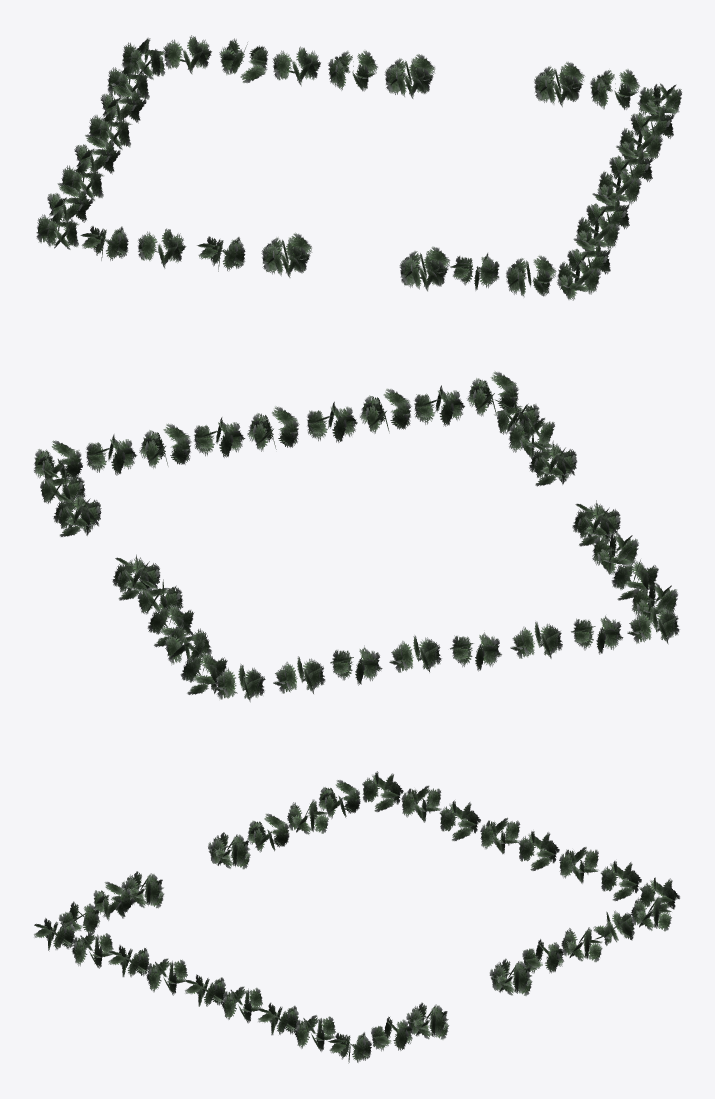
File: Grass_1.fbx
3 renders of one model, top to bottom at view 1: azimuth 30°, elevation 25°; view 2: azimuth 150°, elevation 25°; view 3: azimuth 270°, elevation 25°, orthographic. The views are drawn at different scales.
Visible parts, largest first — view 1: Plane.010; view 2: Plane.010; view 3: Plane.010.
Part boxes in pixels (x1,y1,x2,y2): Plane.010: [36, 35, 682, 300]; Plane.010: [34, 371, 679, 702]; Plane.010: [34, 771, 679, 1063].
Bounding box in the file's own units: 76.39 × 7.28 × 77.18.
Materials: 1 (1 with a texture image).
